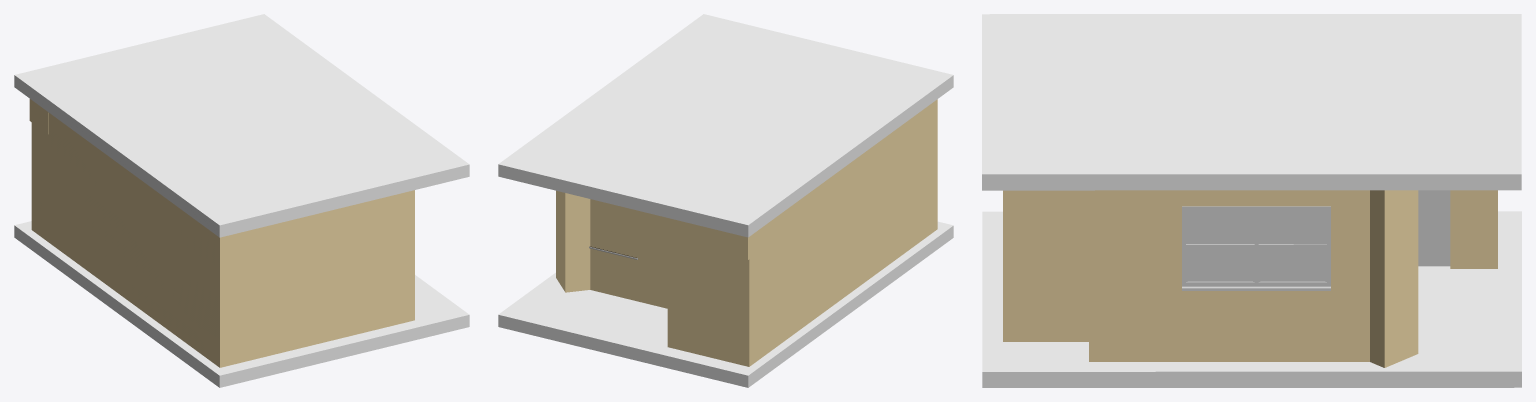
The model's file is FloorPlan13_physics.fbx.
3 views of the same model, side by side, from view 1: azimuth 30°, elevation 25°; view 2: azimuth 150°, elevation 25°; view 3: azimuth 270°, elevation 25° (orthographic). The views are drawn at different scales.
Visible parts, largest first — view 1: Cube.686, Cube.650, Cube.721; view 2: Cube.686, Cube.650, Cube.721; view 3: Cube.686, Cube.650, Cube.721, WindowPane, WindowFrame, Cube.723.
Boxes of the visible parts, box(x1,y1,x2,y2) form: Cube.686: box(14, 14, 469, 237); Cube.650: box(29, 99, 414, 367); Cube.721: box(14, 221, 469, 387); Cube.686: box(498, 14, 953, 237); Cube.650: box(556, 99, 937, 366); Cube.721: box(498, 221, 953, 387); Cube.686: box(982, 14, 1521, 190); Cube.650: box(1003, 190, 1497, 367); Cube.721: box(982, 211, 1521, 387); WindowPane: box(1187, 211, 1325, 280); WindowFrame: box(1182, 206, 1330, 290); Cube.723: box(1418, 190, 1446, 266).
Bounding box in the file's own units: 551 × 343 × 784.
